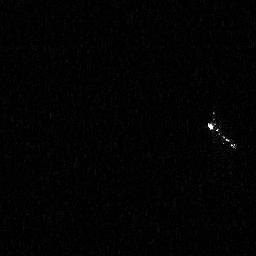ship: (204, 108, 239, 151)
